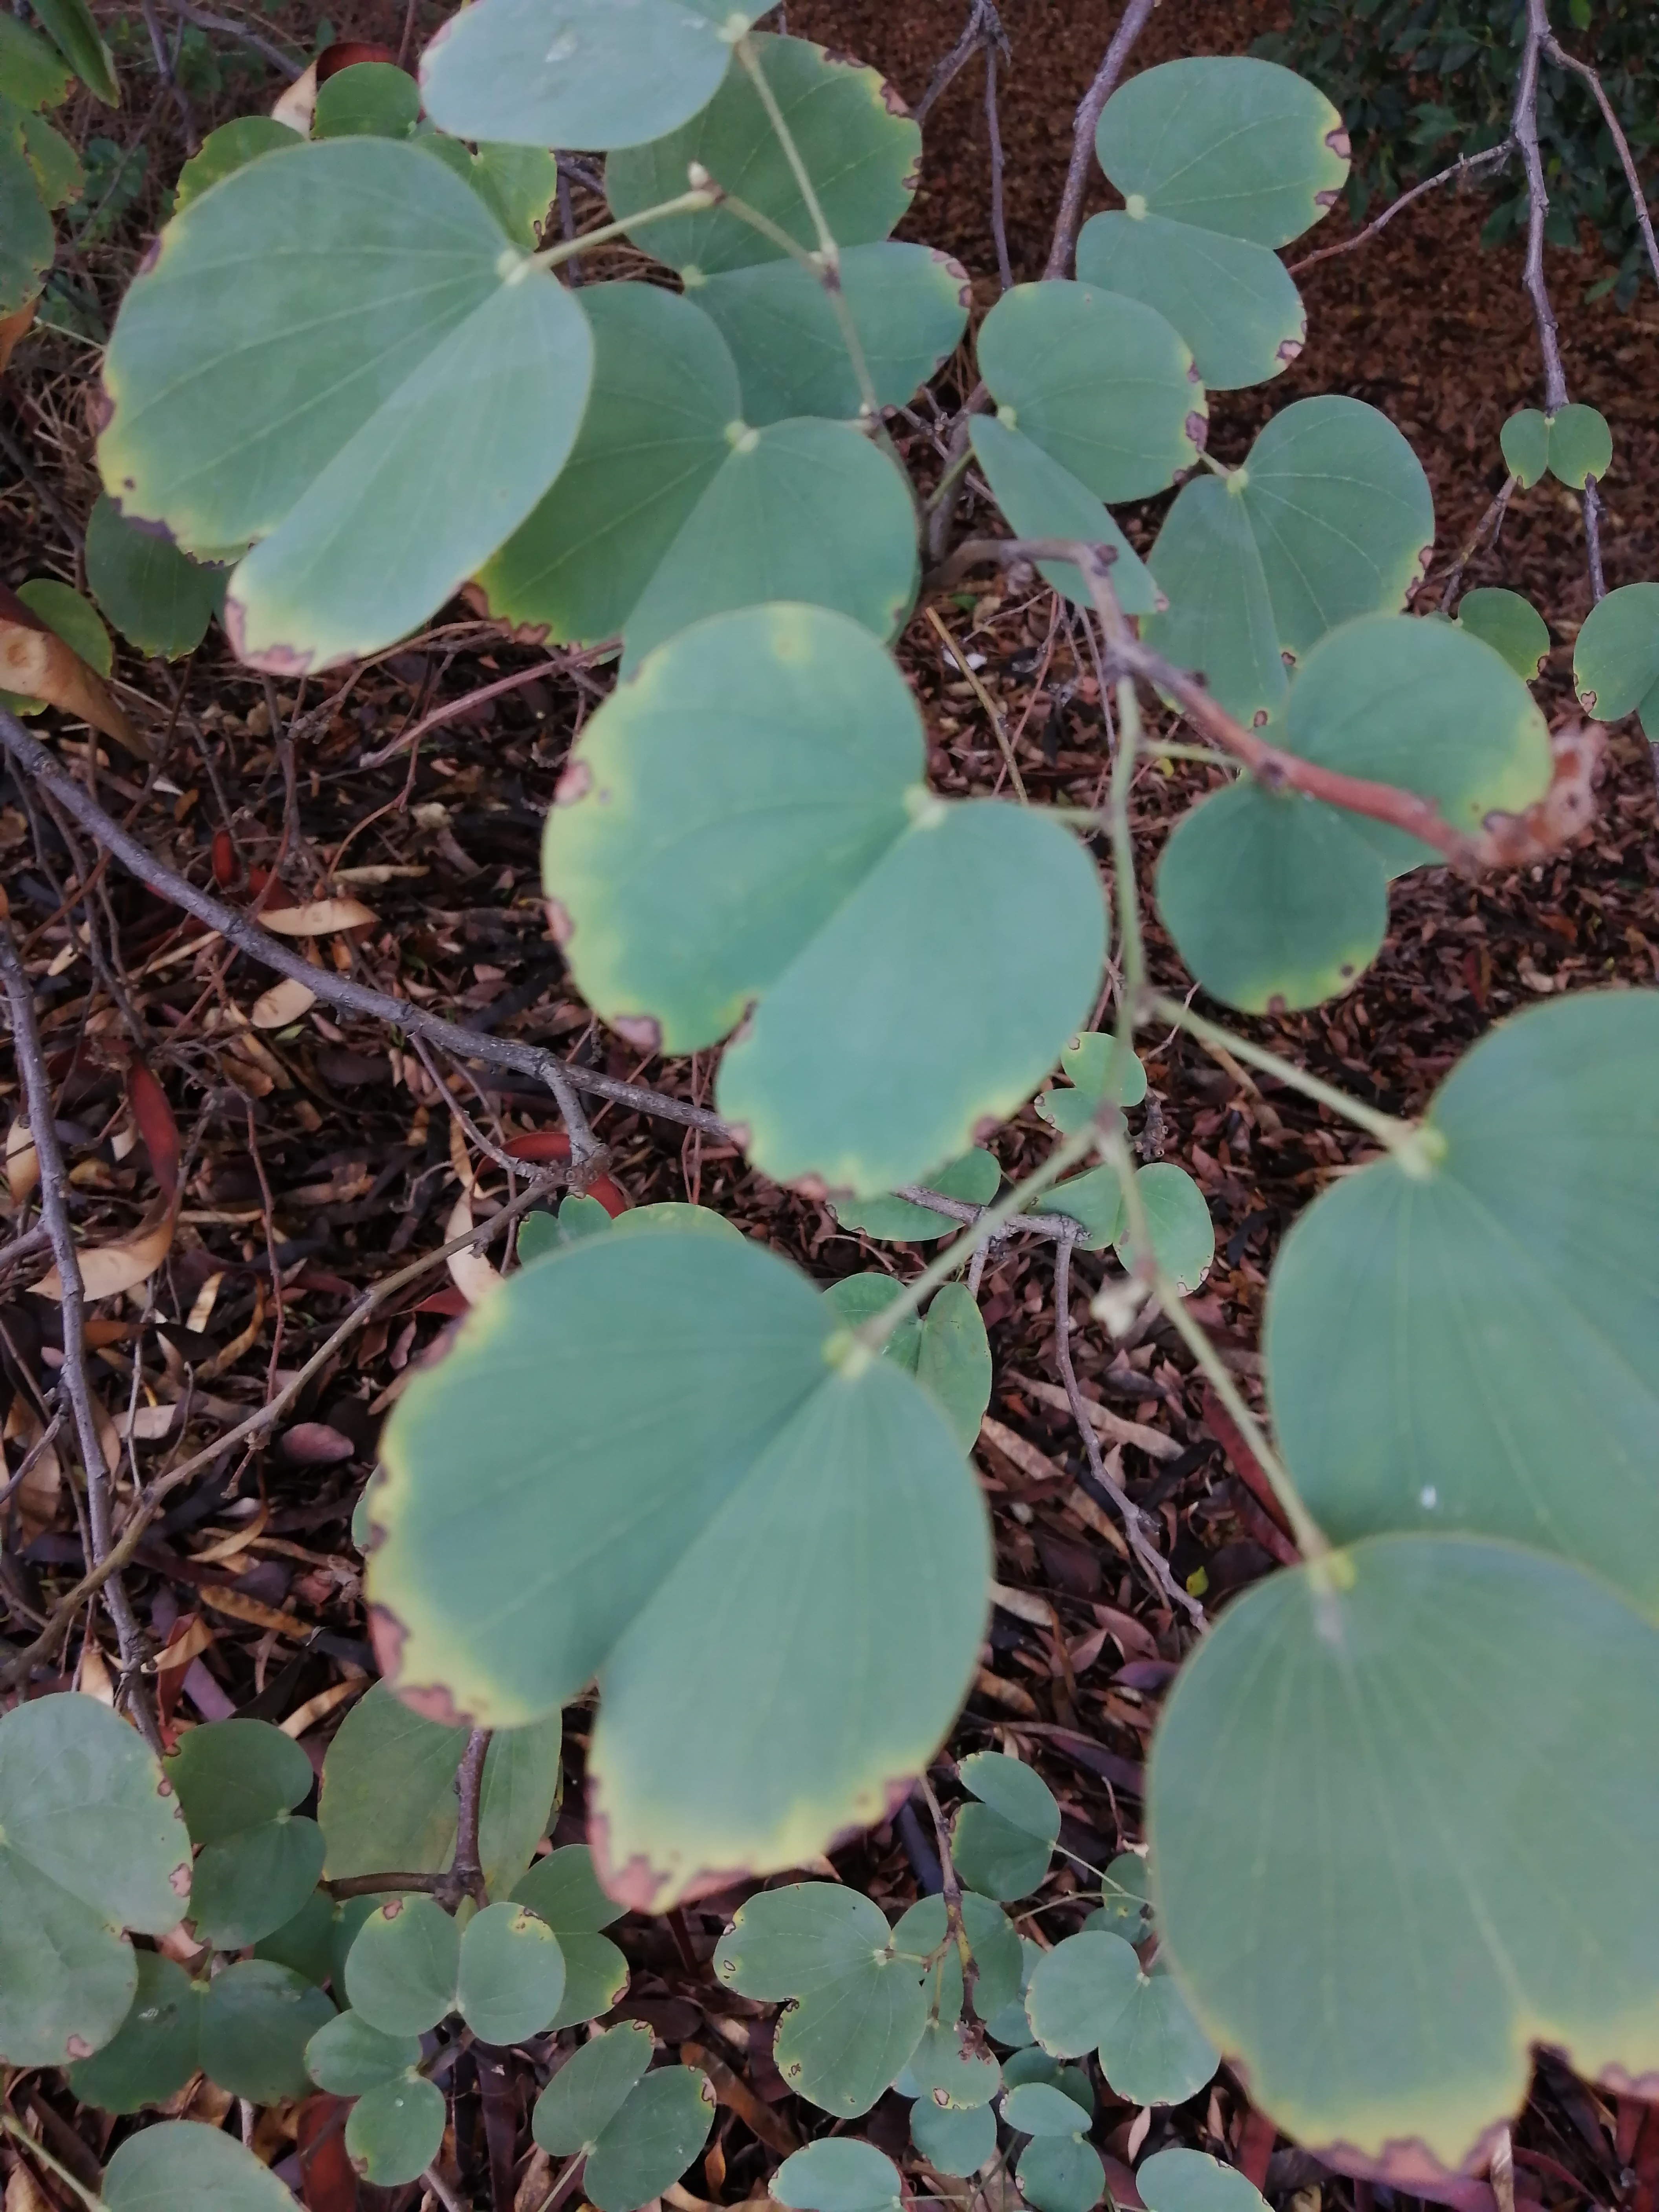nothealthy: (254, 1160, 1039, 1935), (42, 70, 664, 747), (540, 603, 1134, 1238), (1105, 1543, 1659, 2203), (1072, 21, 1384, 451), (1164, 425, 1466, 740), (674, 1872, 925, 2101), (509, 1984, 735, 2207), (303, 1885, 579, 2048), (1500, 397, 1624, 510)
